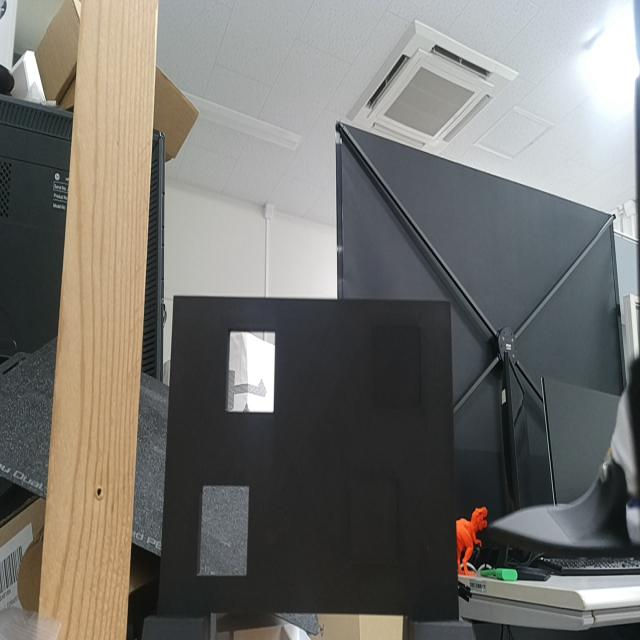Obstacle: (197, 484, 250, 577), (226, 332, 276, 415)
Wall: (159, 297, 458, 620)
